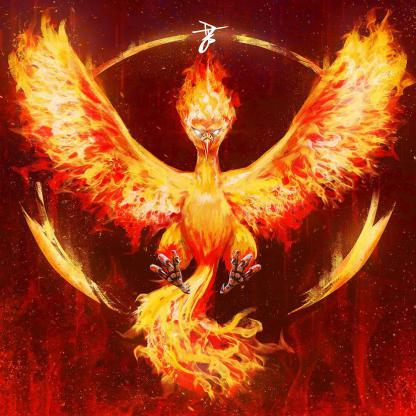Moltres: (1, 25, 416, 314)
